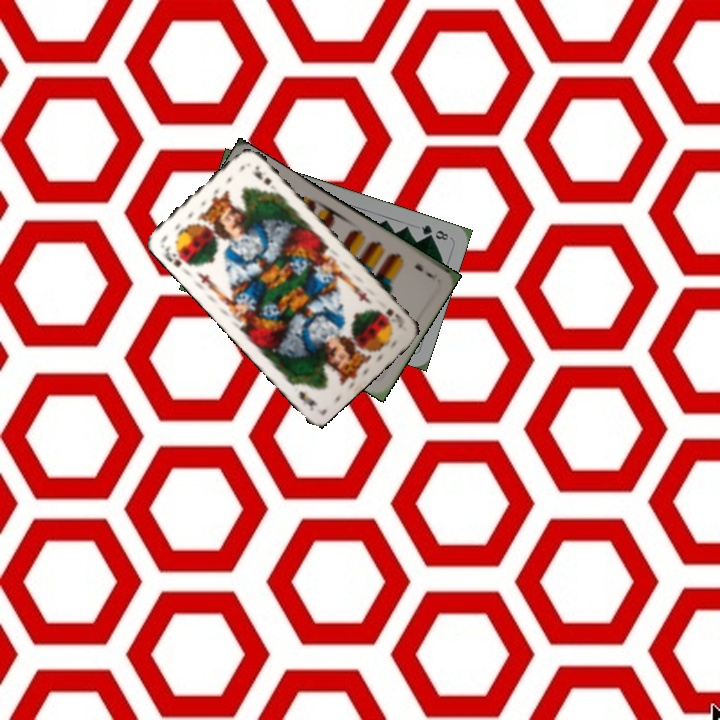E7: (410, 259, 440, 282)
G8: (417, 221, 451, 243)
SK: (160, 241, 194, 270), (374, 304, 407, 326)
